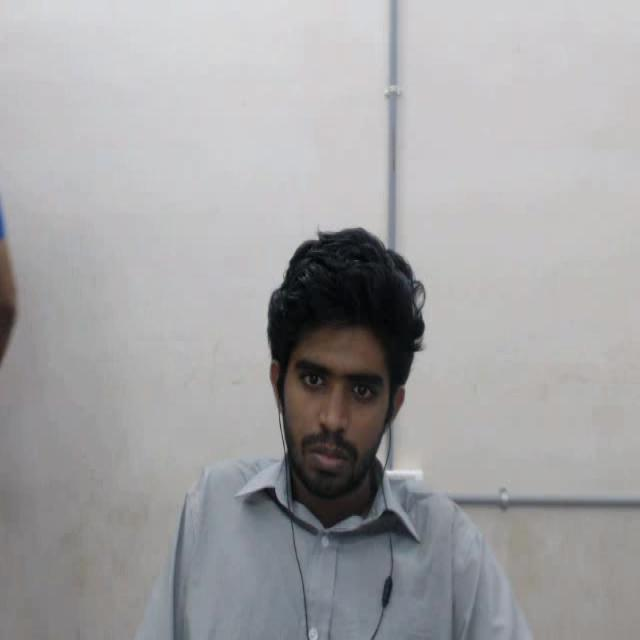Engaged: (255, 191, 439, 534)
